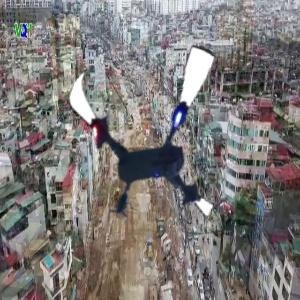drone: (49, 33, 250, 234)
